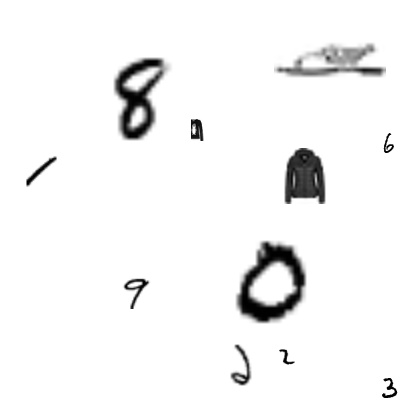0: (213, 226, 325, 338)
1: (19, 149, 61, 191)
2: (213, 341, 269, 397), (275, 346, 297, 368)
3: (376, 375, 404, 403)
6: (374, 131, 402, 159)
8: (79, 39, 191, 151)
9: (114, 267, 156, 309)
Coat: (277, 148, 333, 204)
Pullover: (183, 119, 205, 141)
Sandal: (274, 4, 386, 116)
